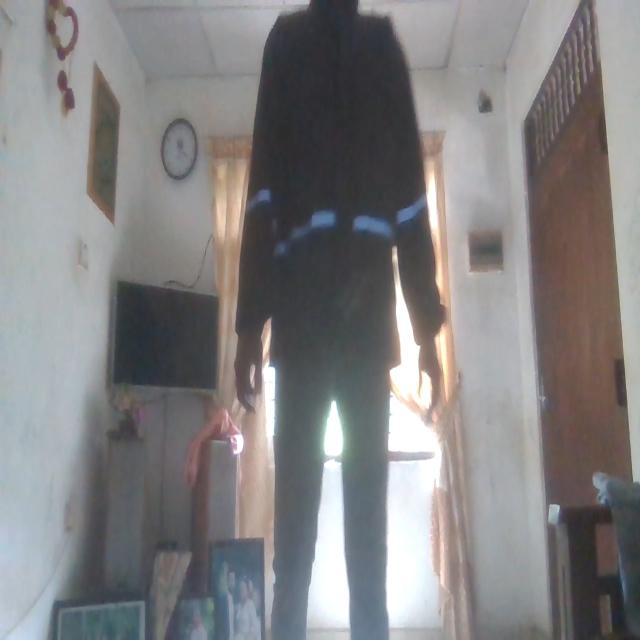Jacket_Wearer: (234, 0, 440, 399)
Person: (227, 0, 450, 640)
